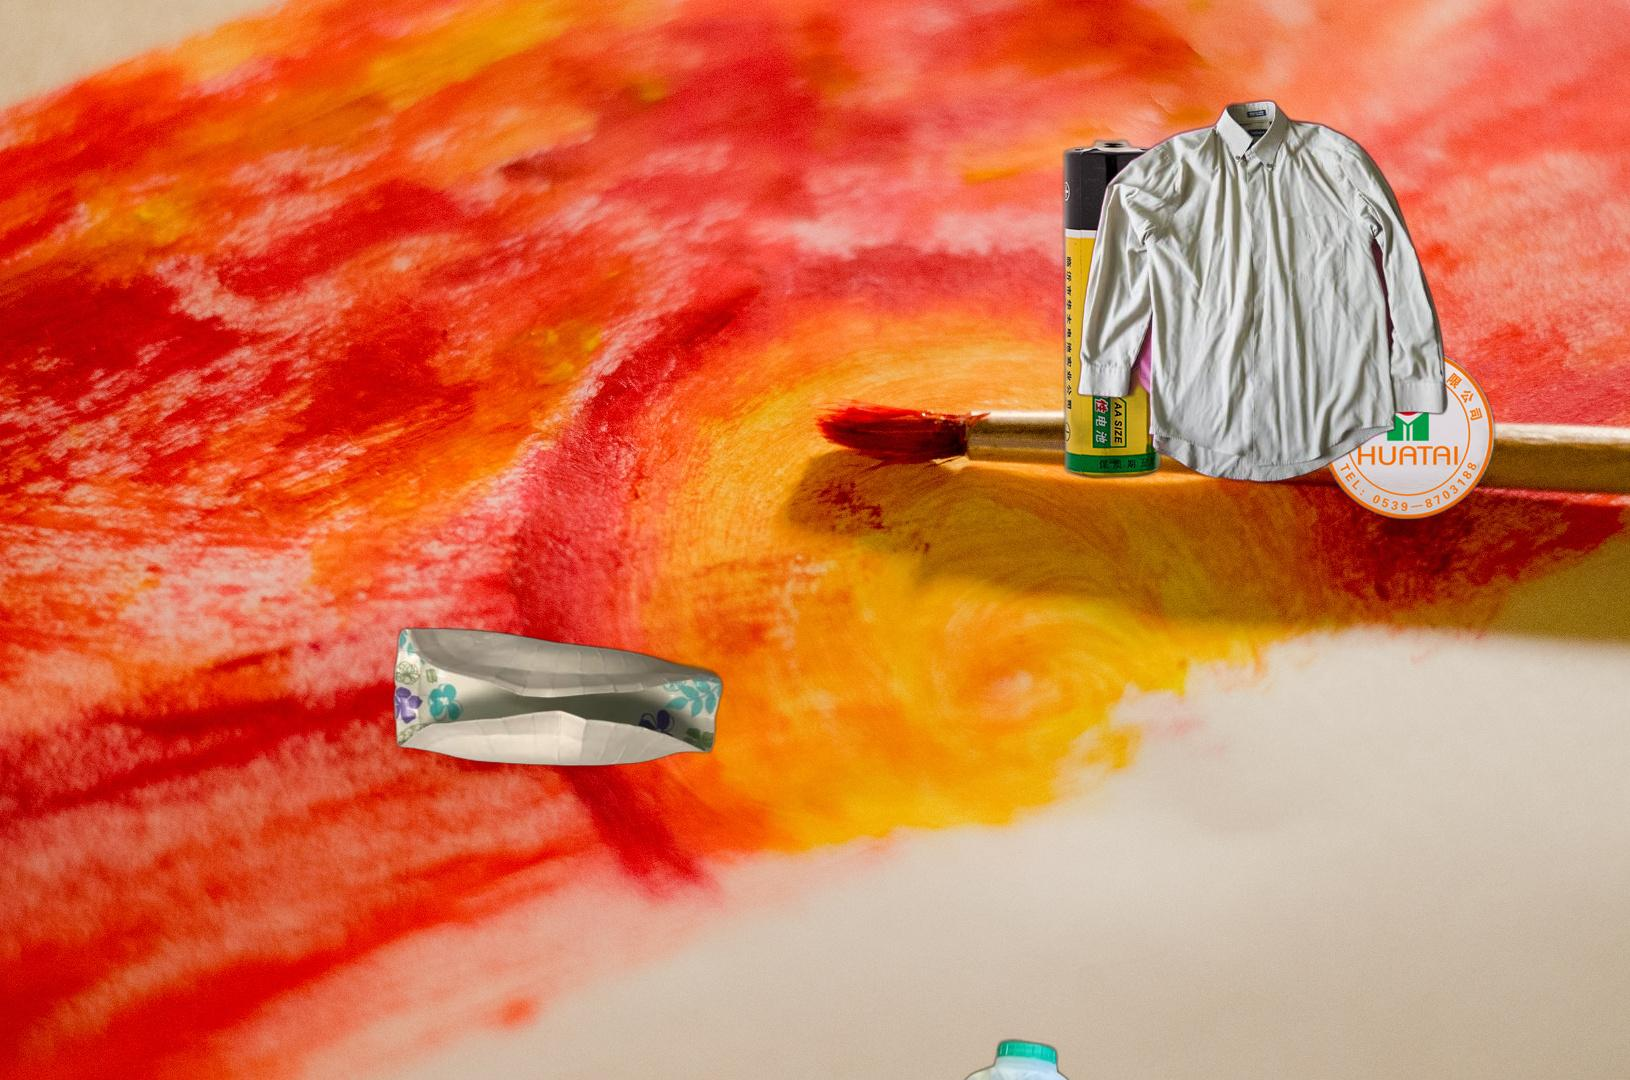battery: (1057, 135, 1501, 524)
clothes: (1073, 96, 1449, 486)
paper: (389, 624, 728, 770)
plastic-bottles: (928, 1035, 1089, 1080)
